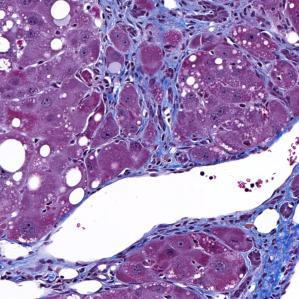fibrosis: (100, 24, 194, 139)
